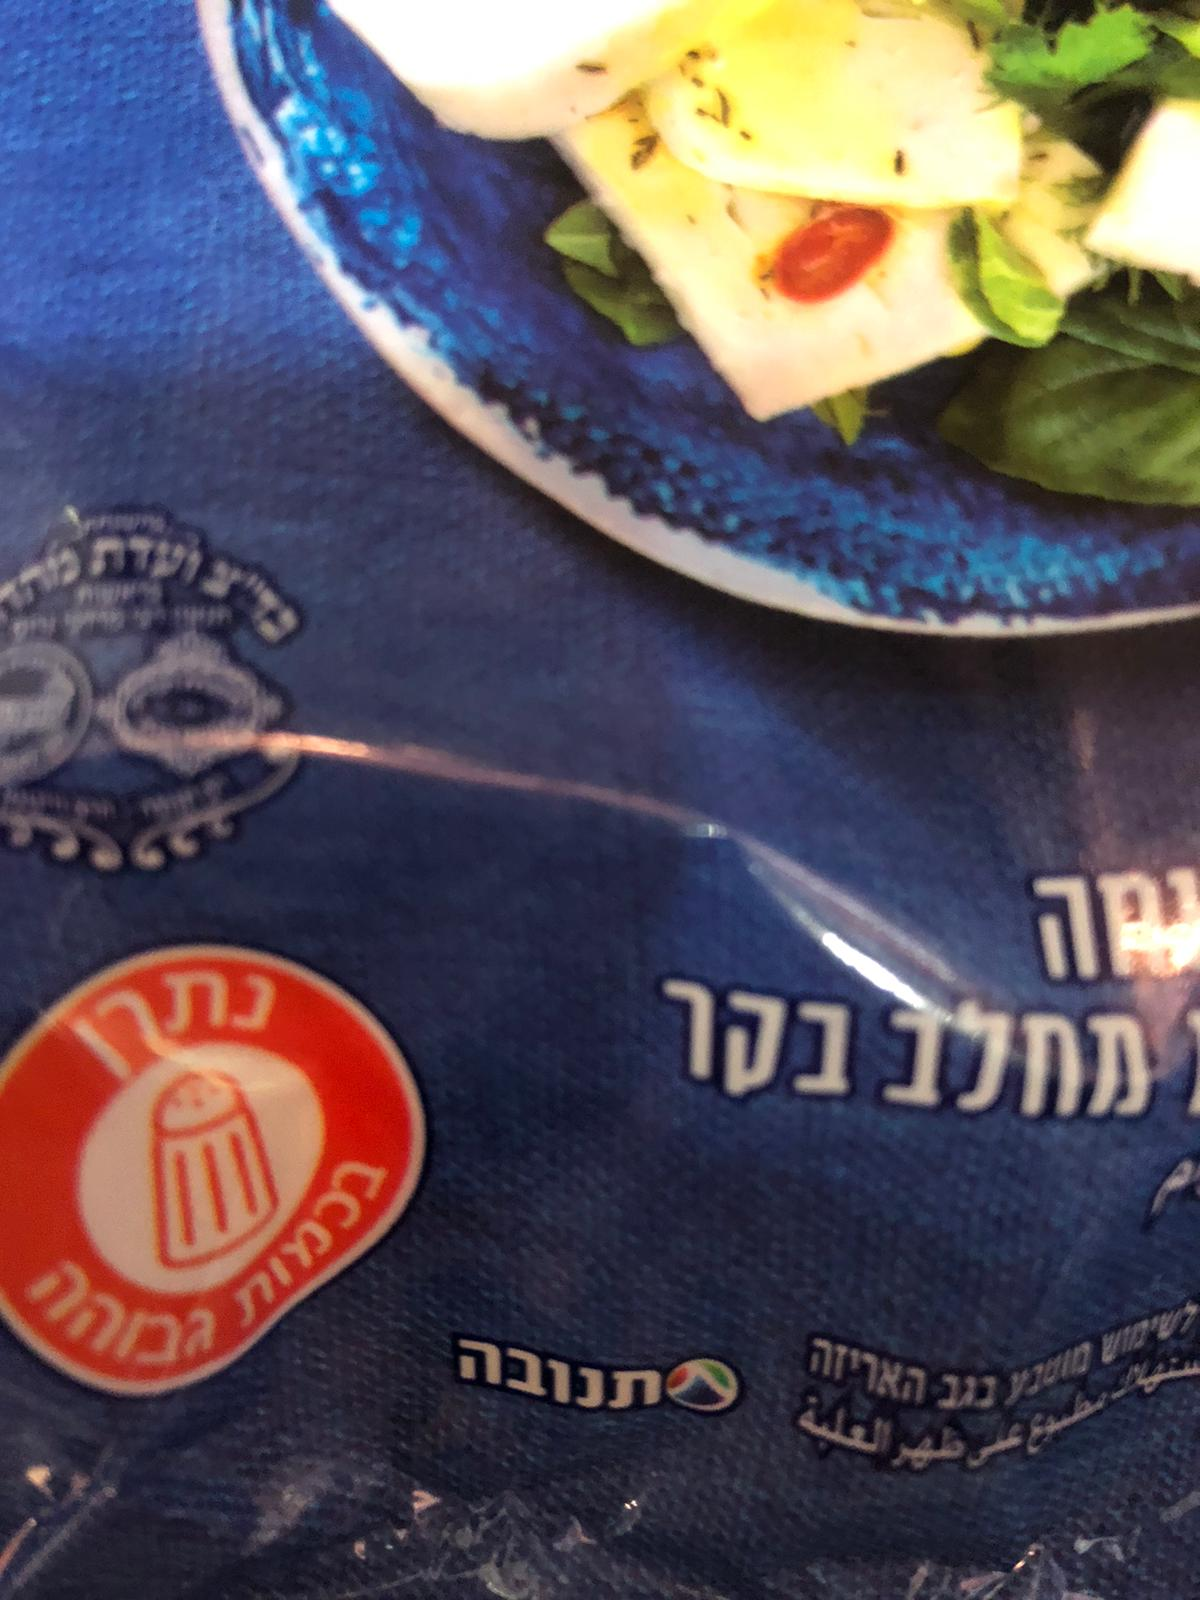salt: (1, 940, 431, 1397)
